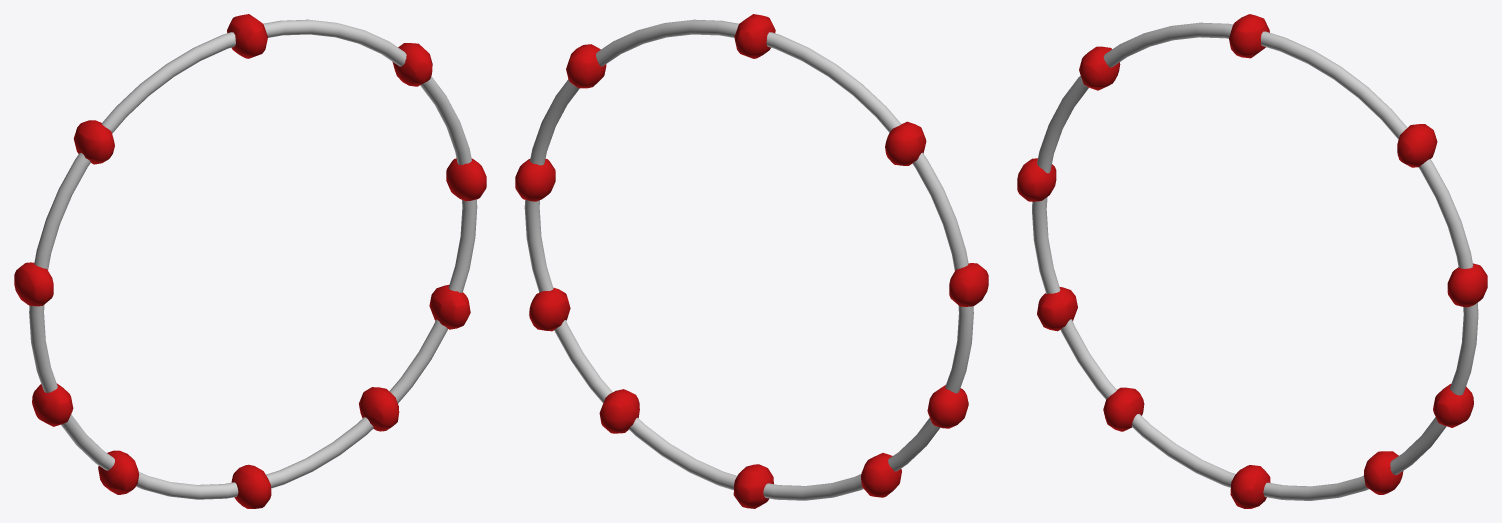
3 renders of one model, left to right at view 1: azimuth 30°, elevation 25°; view 2: azimuth 150°, elevation 25°; view 3: azimuth 330°, elevation 25°, orthographic.
Visible parts, largest first — view 1: Ring_Torus, Electron_Mball; view 2: Ring_Torus, Electron_Mball; view 3: Ring_Torus, Electron_Mball.
Boxes of the visible parts, left/top/right/bottom form: Ring_Torus: left=29, top=19, right=477, bottom=499; Electron_Mball: left=14, top=14, right=486, bottom=508; Ring_Torus: left=524, top=19, right=973, bottom=500; Electron_Mball: left=515, top=14, right=988, bottom=508; Ring_Torus: left=1032, top=22, right=1478, bottom=500; Electron_Mball: left=1017, top=14, right=1487, bottom=508.
Size of the model in its own units: 2.56 by 2.59 by 0.2705.
